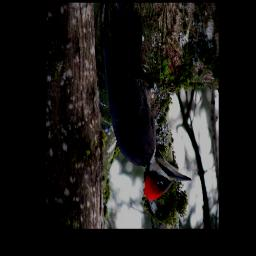Woodpecker: (99, 8, 193, 203)
